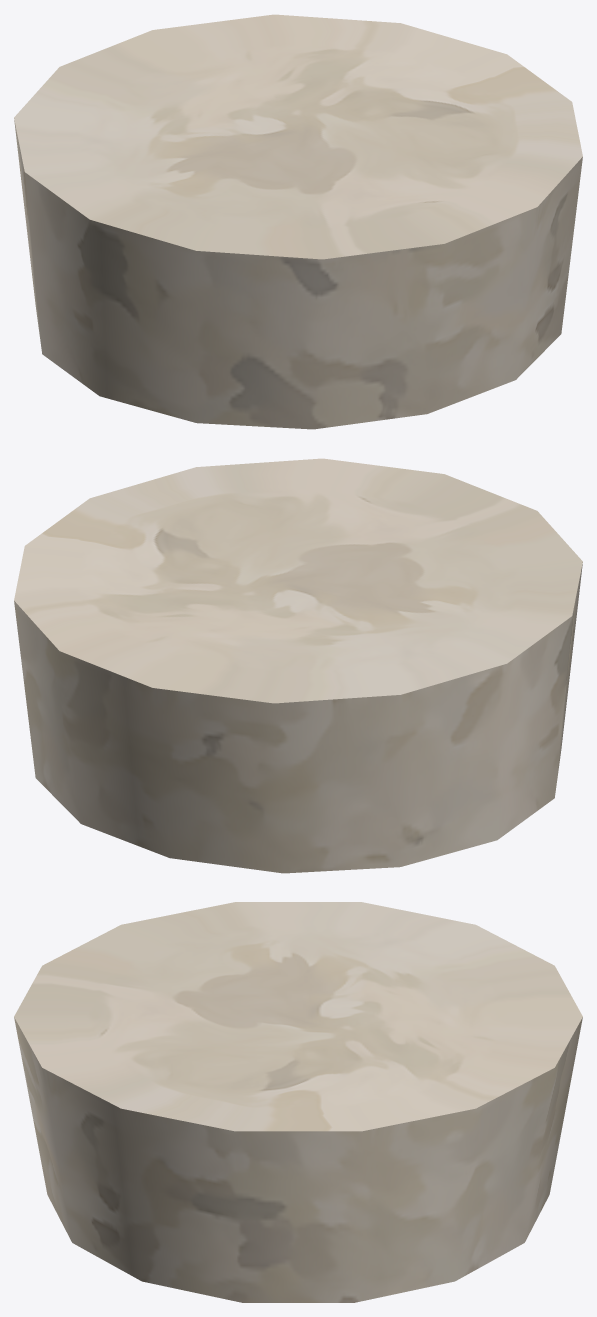
File: kolumna_1_top.obj
3 views of the same model, one above another, from view 1: azimuth 30°, elevation 25°; view 2: azimuth 150°, elevation 25°; view 3: azimuth 270°, elevation 25° (orthographic). The views are drawn at different scales.
Visible parts, largest first — view 1: Cylinder.016; view 2: Cylinder.016; view 3: Cylinder.016.
Part boxes in pixels (bbox=[...]): Cylinder.016: bbox=[14, 14, 582, 429]; Cylinder.016: bbox=[14, 458, 582, 873]; Cylinder.016: bbox=[14, 902, 582, 1302].
Bounding box in the file's own units: 5.62 × 2.03 × 5.89.
1 material, 1 textured.
